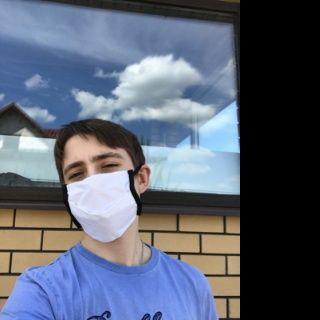with_mask: (62, 140, 142, 243)
